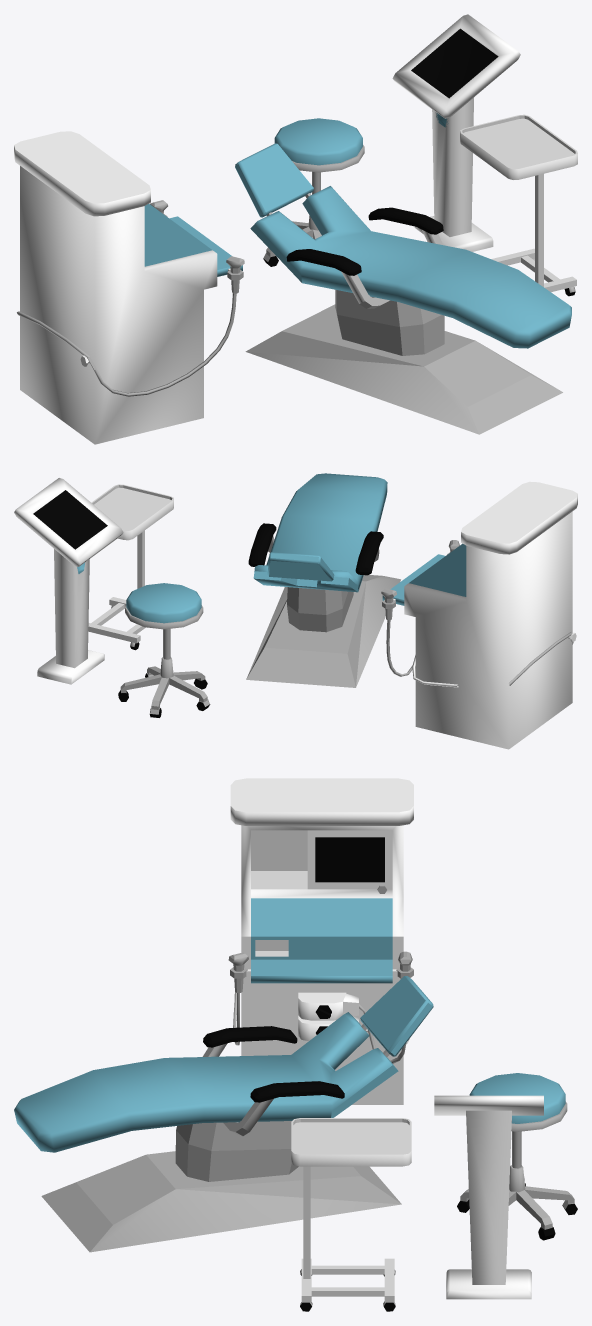
Rendered from treatment_set.dae.
The picture shows the model from 3 angles, top to bottom: view 1: azimuth 30°, elevation 25°; view 2: azimuth 150°, elevation 25°; view 3: azimuth 270°, elevation 25°; orthographic projection. The views are drawn at different scales.
Visible parts, largest first — view 1: Medical Device Treatment, Treatment Chair, Standing Monitor, Small Cart, Treatment Stool; view 2: Medical Device Treatment, Treatment Chair, Standing Monitor, Treatment Stool, Small Cart; view 3: Treatment Chair, Medical Device Treatment, Standing Monitor, Small Cart, Treatment Stool.
Boxes of the visible parts, box(x1,y1,x2,y2) form: Medical Device Treatment: box(14, 131, 244, 444); Treatment Chair: box(235, 143, 571, 434); Standing Monitor: box(392, 14, 520, 251); Small Cart: box(460, 114, 577, 296); Treatment Stool: box(263, 118, 364, 266); Medical Device Treatment: box(381, 481, 577, 749); Treatment Chair: box(246, 473, 400, 687); Standing Monitor: box(14, 478, 123, 684); Treatment Stool: box(118, 583, 210, 717); Small Cart: box(88, 484, 173, 650); Treatment Chair: box(14, 976, 433, 1252); Medical Device Treatment: box(228, 778, 413, 1104); Standing Monitor: box(434, 1095, 543, 1299); Small Cart: box(291, 1118, 411, 1311); Treatment Stool: box(457, 1073, 577, 1240).
Bounding box in the file's own units: 3.52 × 3.03 × 1.57.
